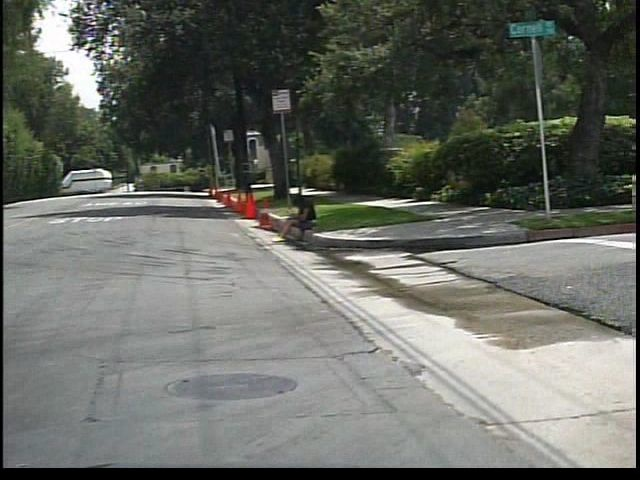person: (273, 192, 328, 246)
